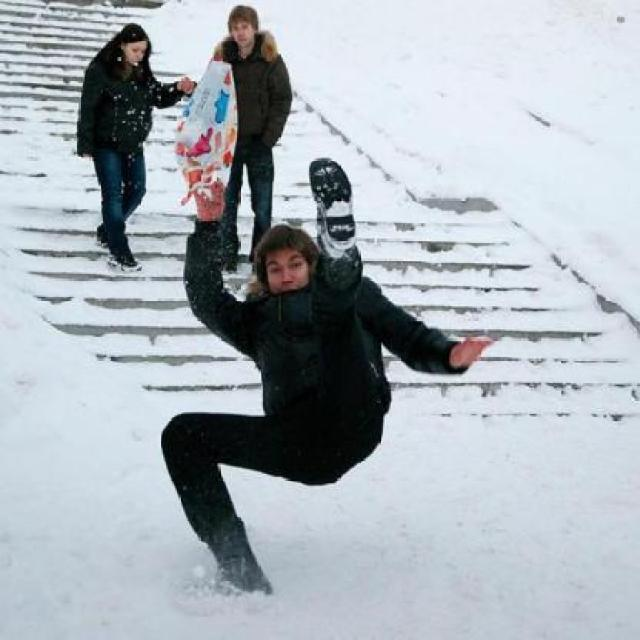fall: (166, 165, 492, 608)
